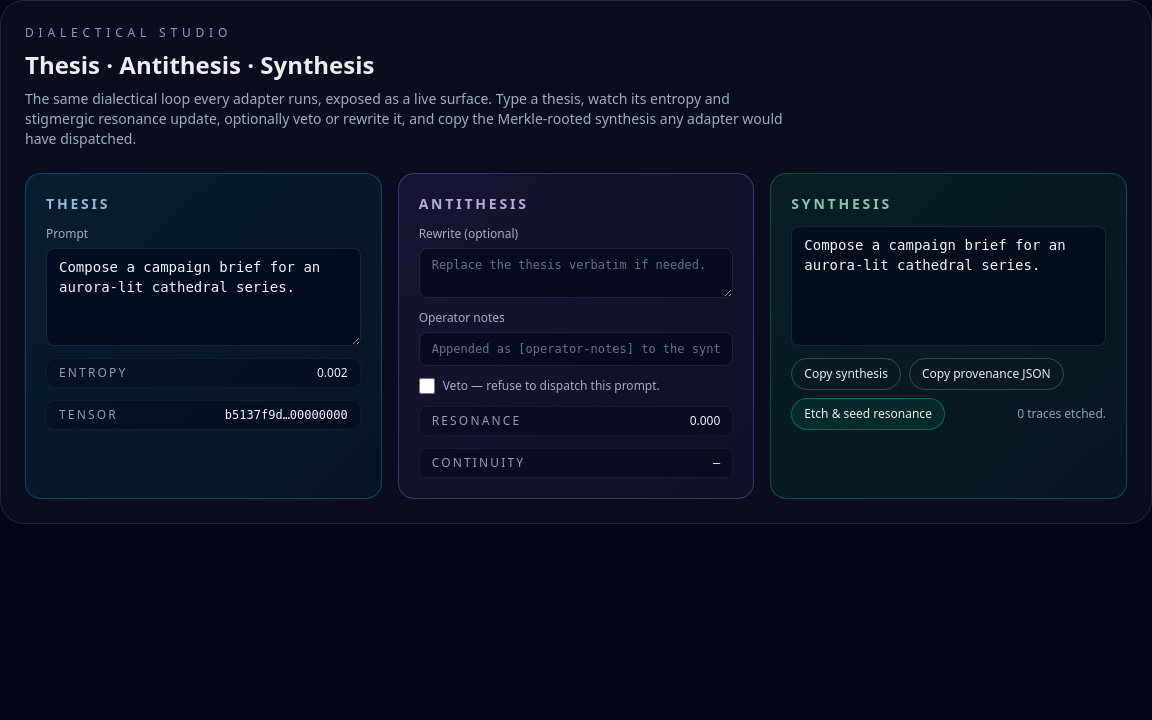
Test: DialecticalStudio › shows the veto banner and disables synthesis copy when the operator vetoes
Replace the text in the text box with test id "dialectical-thesis-input" with "sensitive prompt" at (203, 297), box [46,248,361,346]
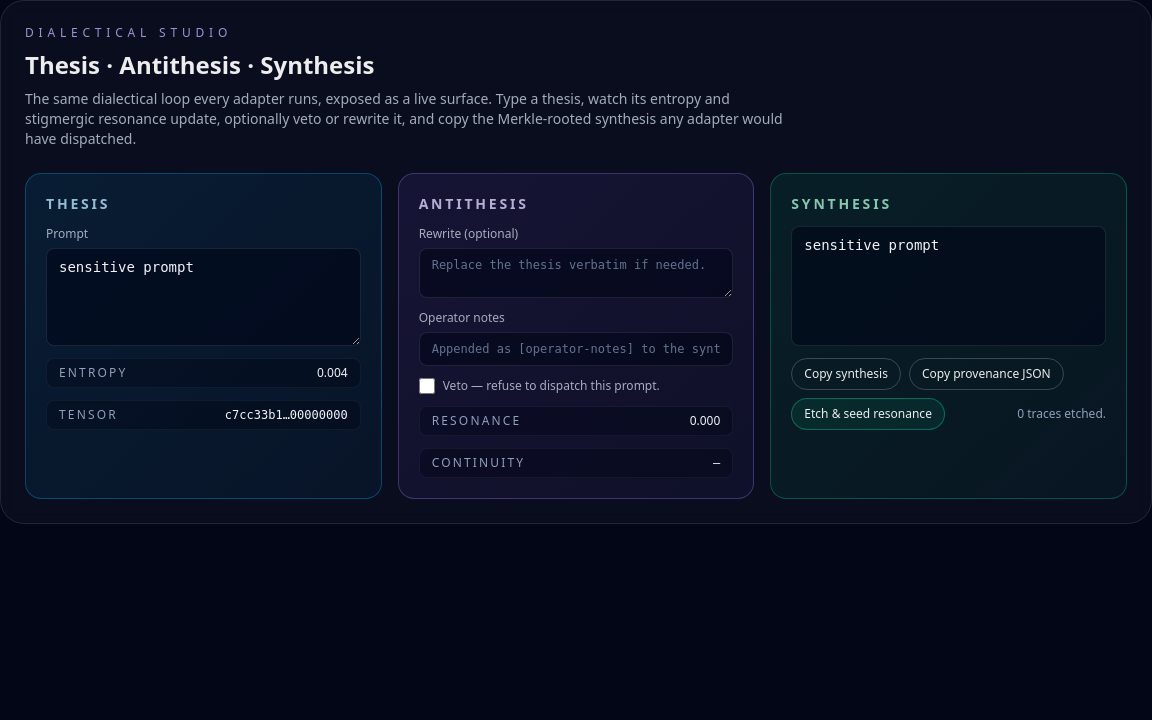
Click the checkbox with test id "dialectical-veto-toggle".
click(427, 386)  # box [419,378,435,394]
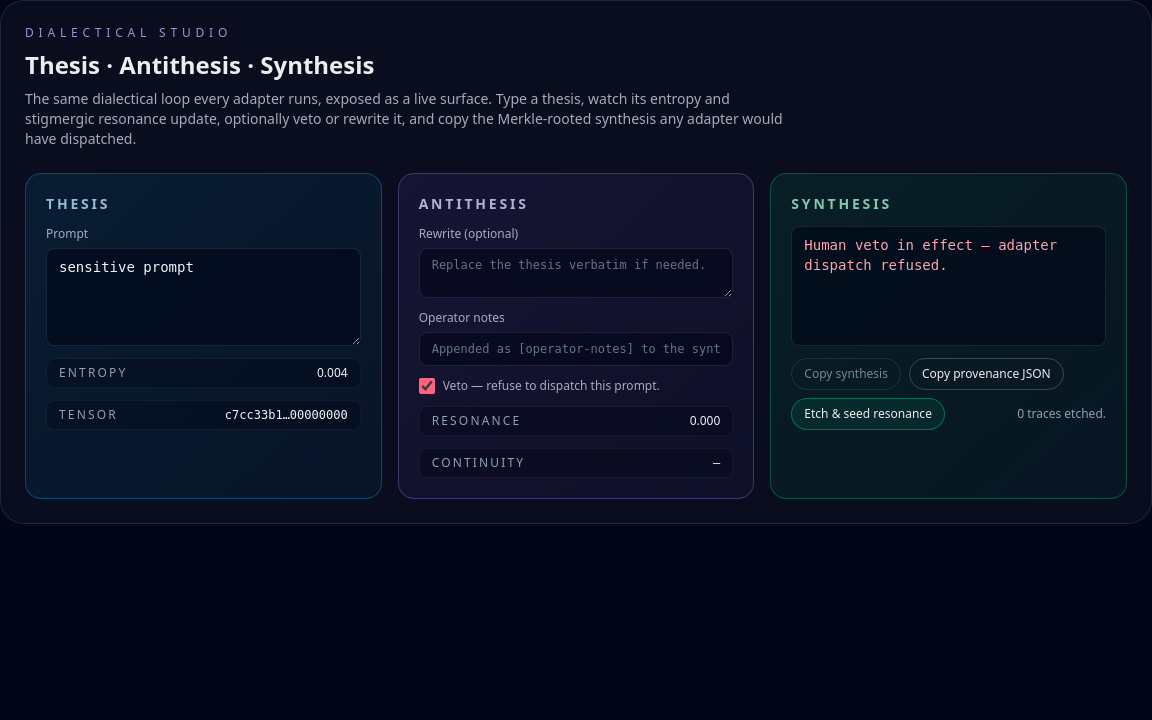
Now the text "Human veto in effect — adapter dispatch refused." is shown, box [804,237,1066,273]
Now the button with test id "dialectical-copy-synthesis" is disabled, box [791,358,901,390]
